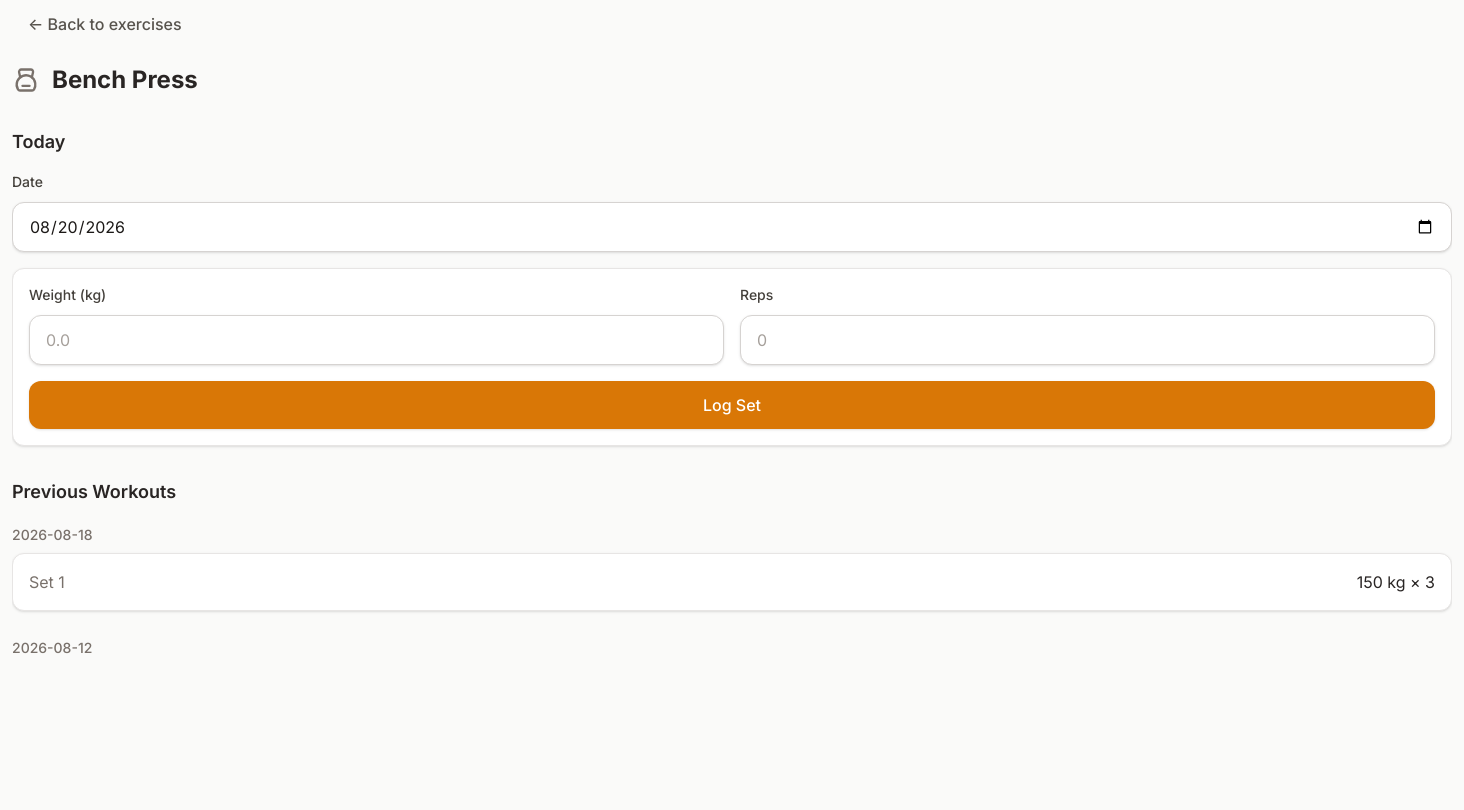
it: Collapsible history for sessions older than 7 days › toggles expansion on each click of the date heading
Click the button "2026-08-12" at (52, 648), box left=12, top=638, right=92, bottom=658
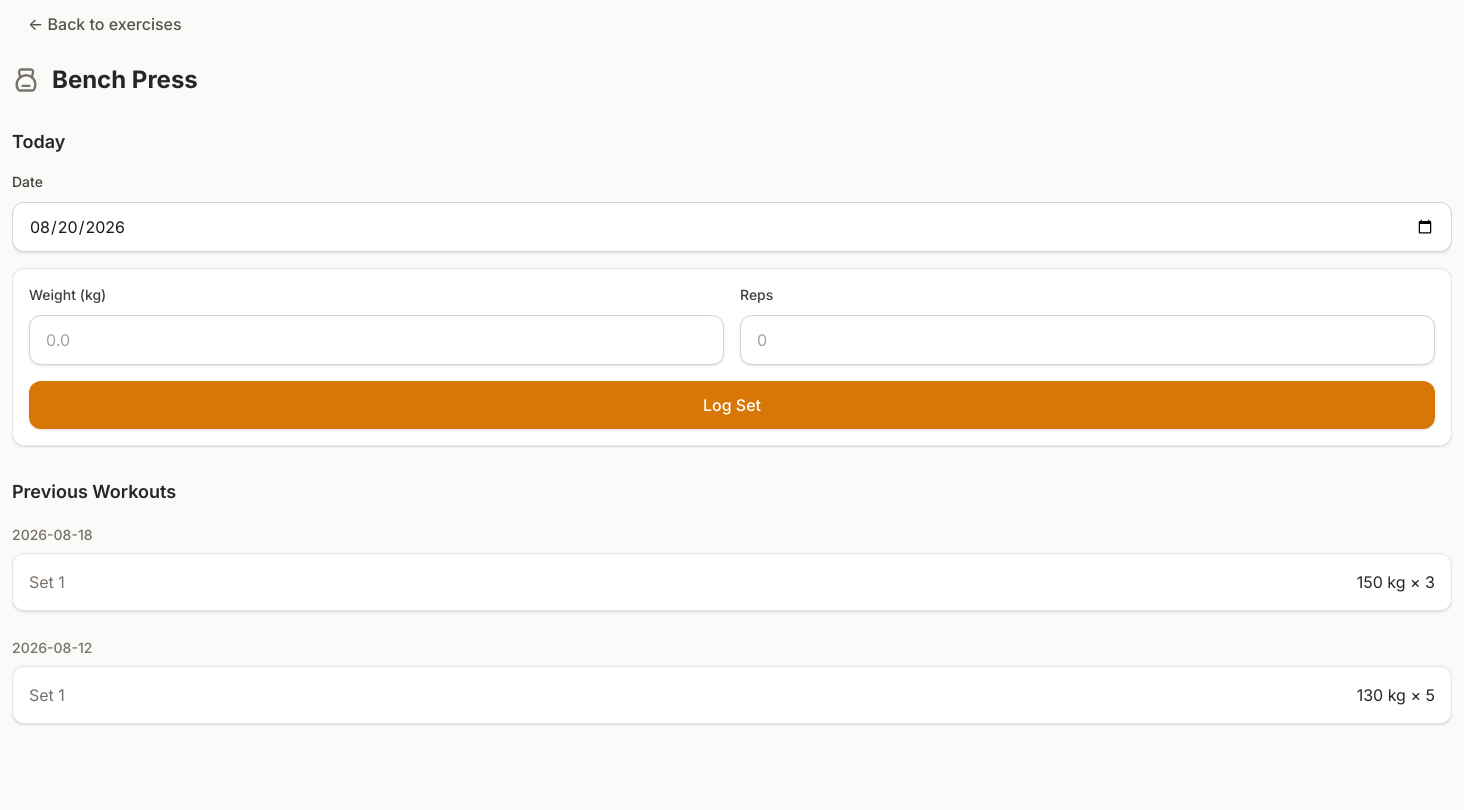
Expected: the text "130 kg × 5" is shown, left=1357, top=683, right=1435, bottom=707
Click the button "2026-08-12" at (52, 648), box left=12, top=638, right=92, bottom=658
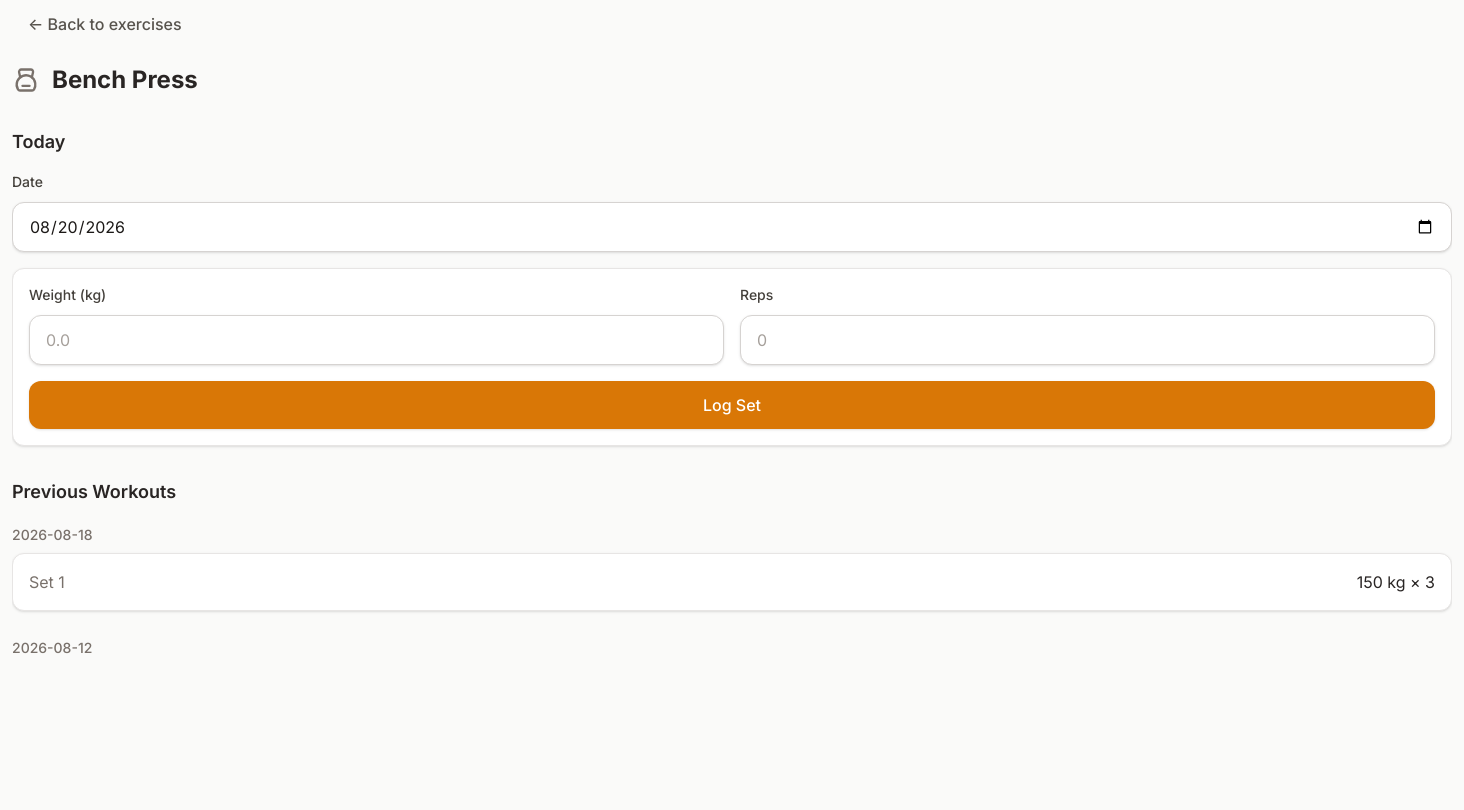
Expected: the text "130 kg × 5" is gone
